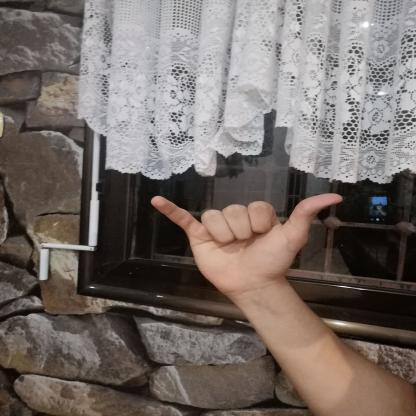YA: (136, 184, 356, 301)
